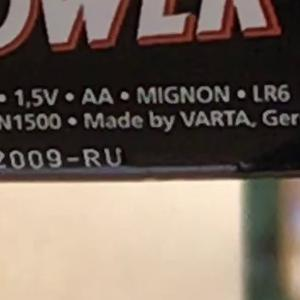keyword: (6, 80, 67, 114), (244, 75, 299, 111)
